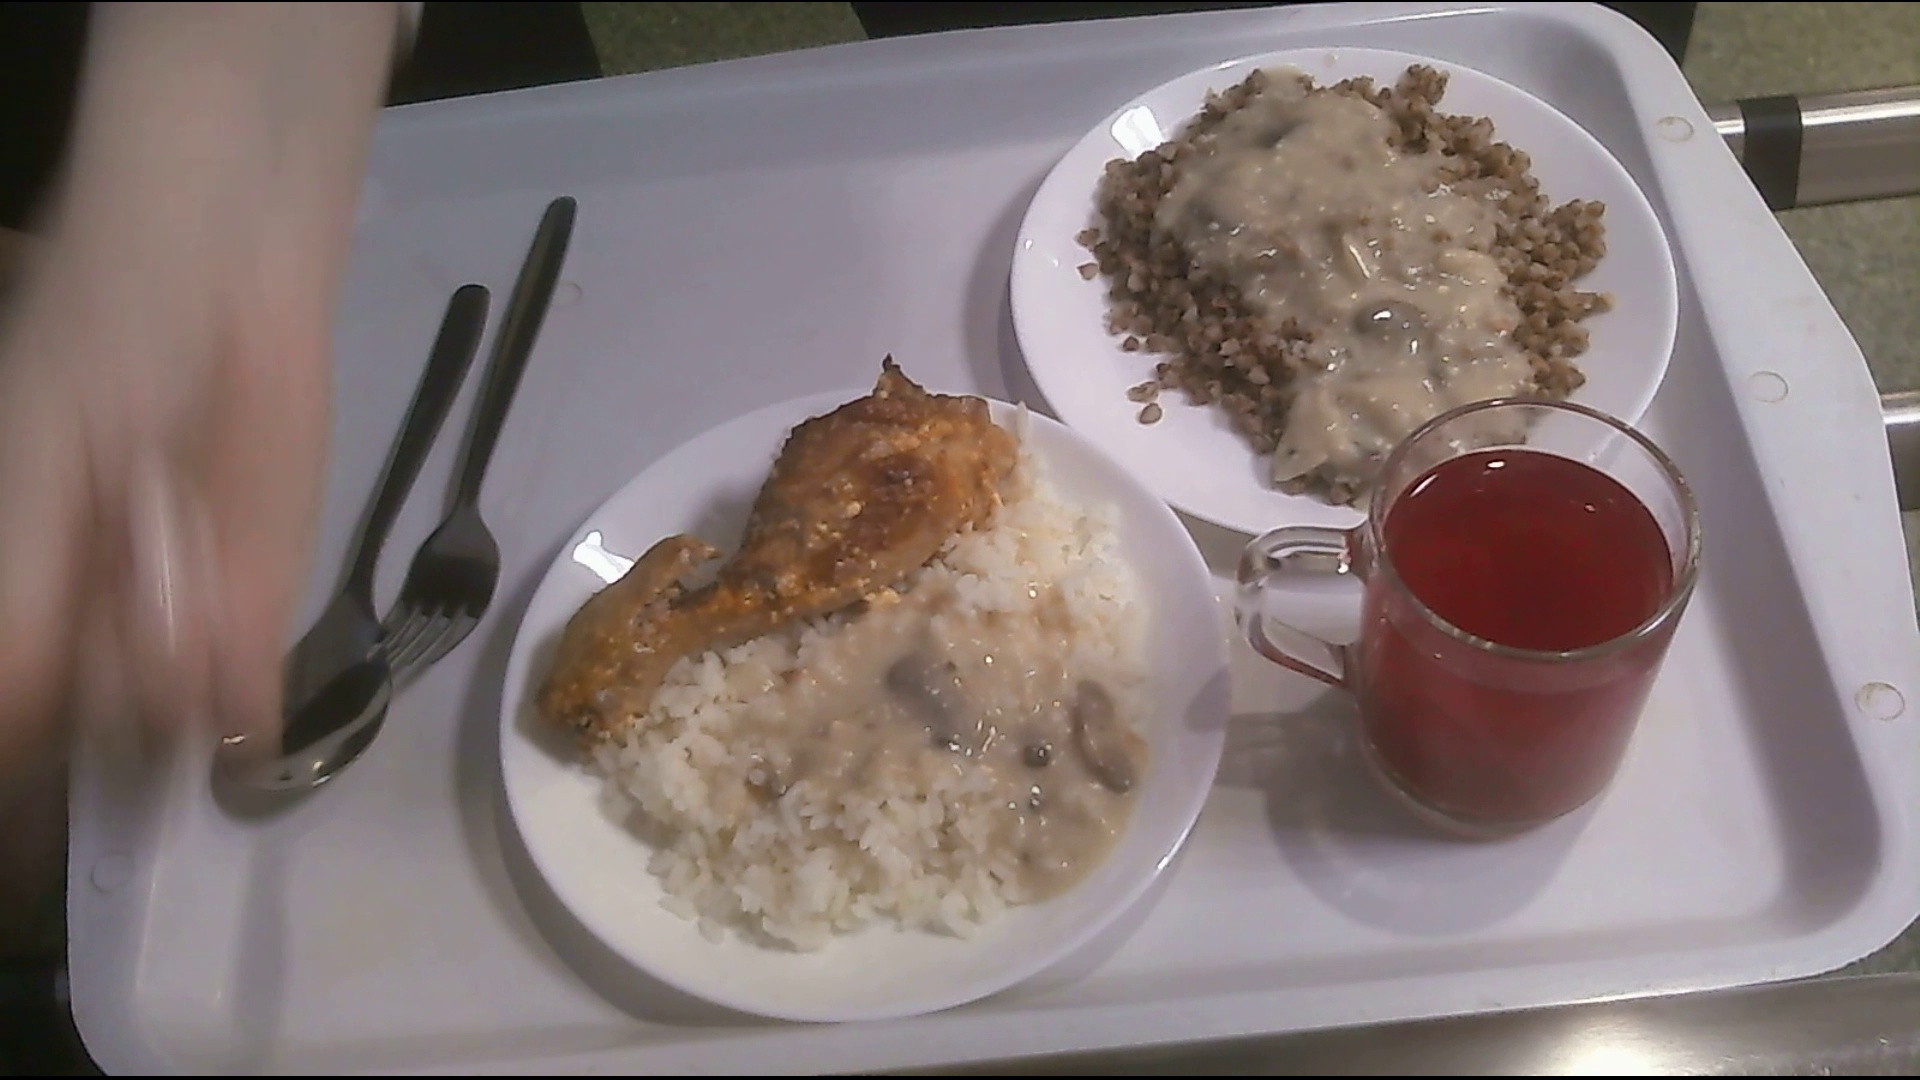cutlery: (222, 276, 489, 825), (384, 189, 579, 690)
drink: (1229, 396, 1691, 832)
plate: (500, 386, 1218, 1021), (1011, 45, 1669, 546)
